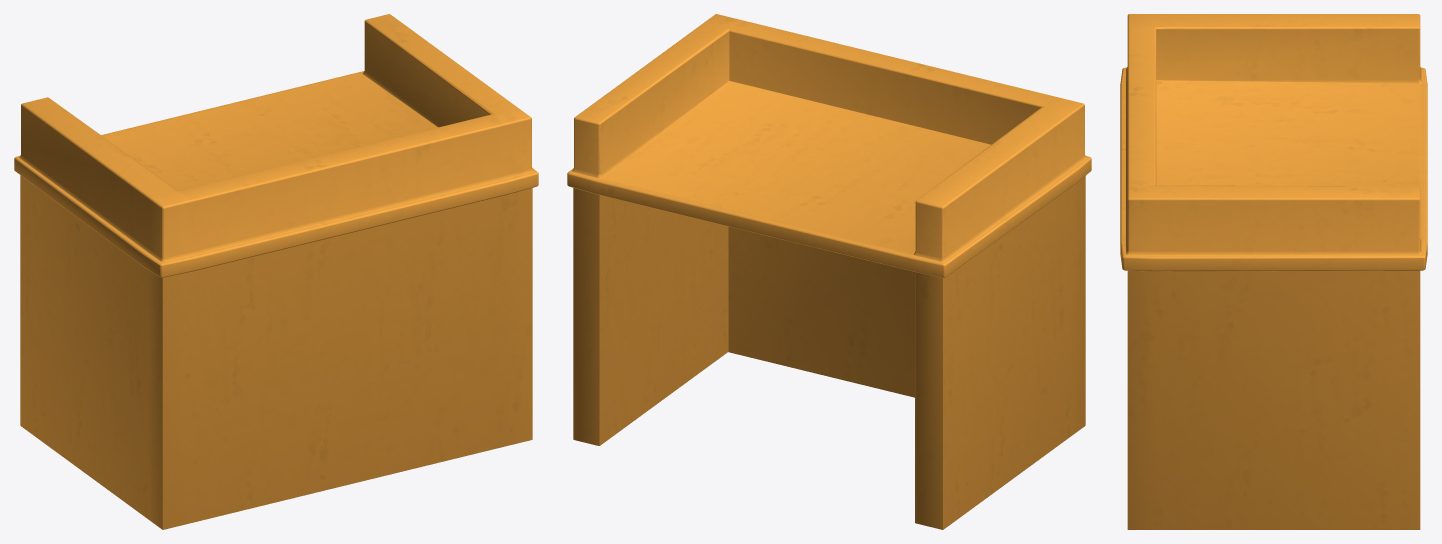
Rendered from TeacherDesk.fbx.
3 views of the same model, side by side, from view 1: azimuth 30°, elevation 25°; view 2: azimuth 150°, elevation 25°; view 3: azimuth 270°, elevation 25° (orthographic). The views are drawn at different scales.
Visible parts, largest first — view 1: 立方体; view 2: 立方体; view 3: 立方体.
Part boxes in pixels (x1,y1,x2,y2): 立方体: (14, 14, 538, 529); 立方体: (567, 14, 1091, 529); 立方体: (1120, 14, 1427, 529).
Size of the model in its own units: 309 by 250 by 210.
